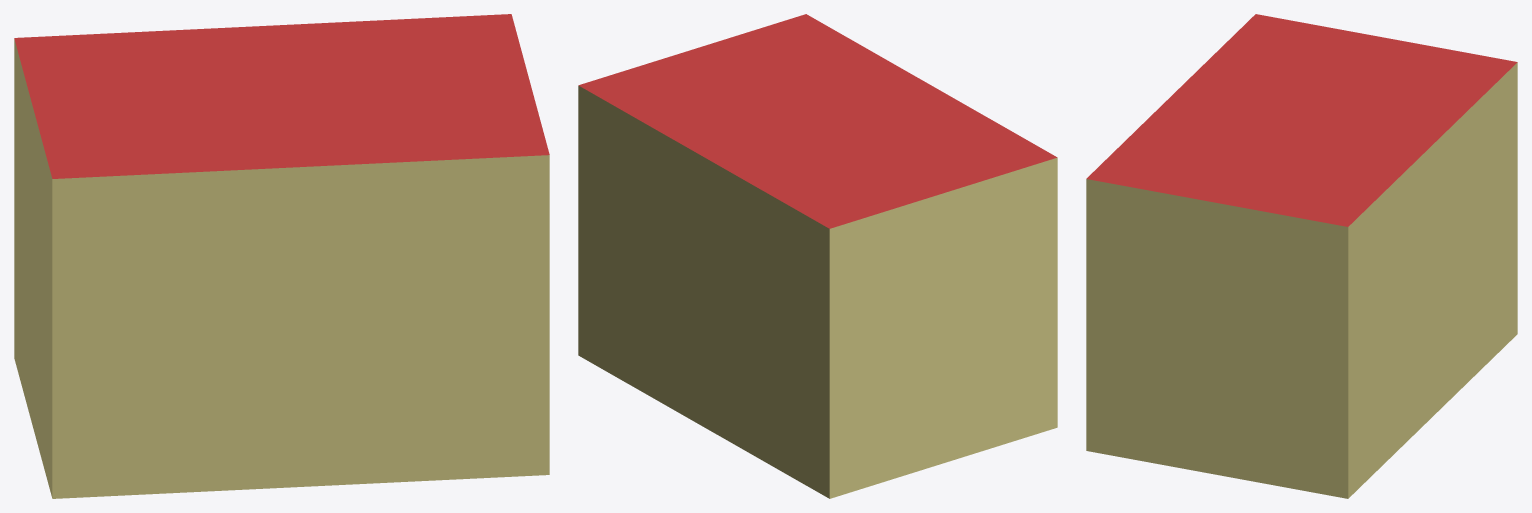
The picture shows the model from 3 angles, left to right: view 1: azimuth 30°, elevation 25°; view 2: azimuth 150°, elevation 25°; view 3: azimuth 270°, elevation 25°; orthographic projection. The views are drawn at different scales.
Size of the model in its own units: 10.21 by 8.74 by 6.08.
